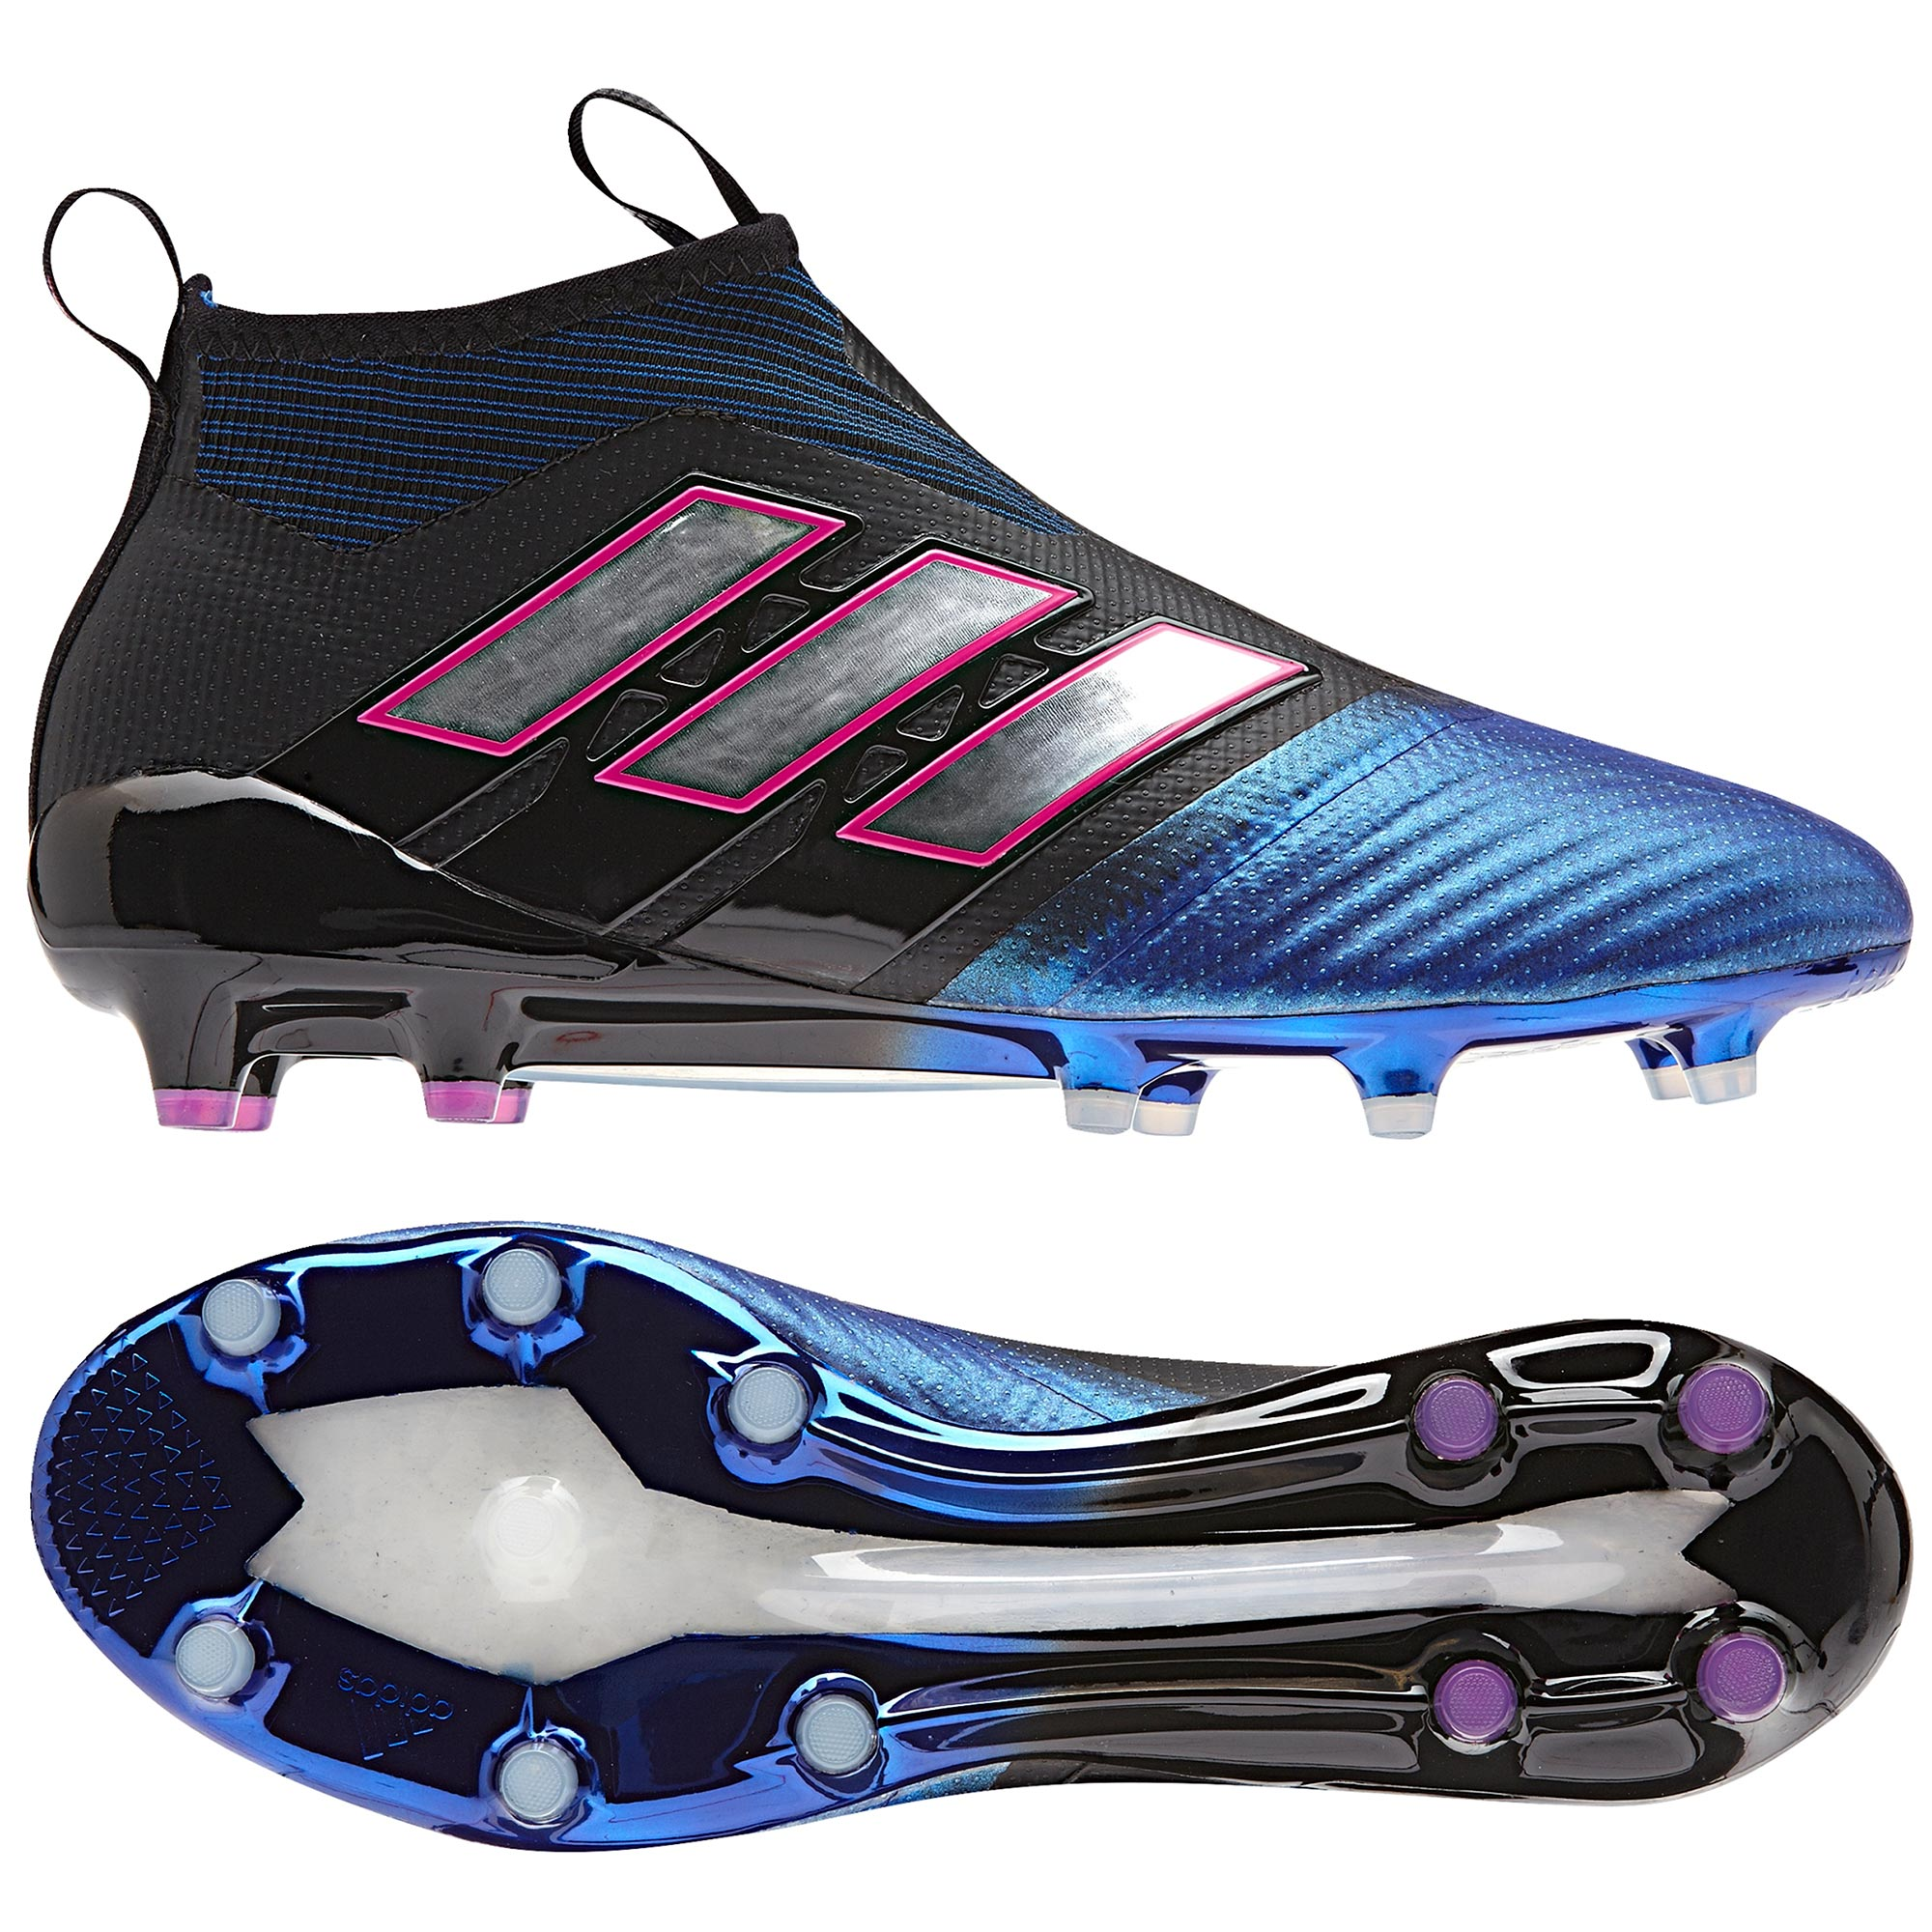football boots: (55, 239, 1909, 1125), (27, 1217, 1918, 1861)
